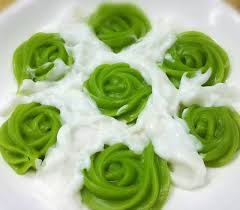kanompiakpoon: (1, 4, 239, 209)
